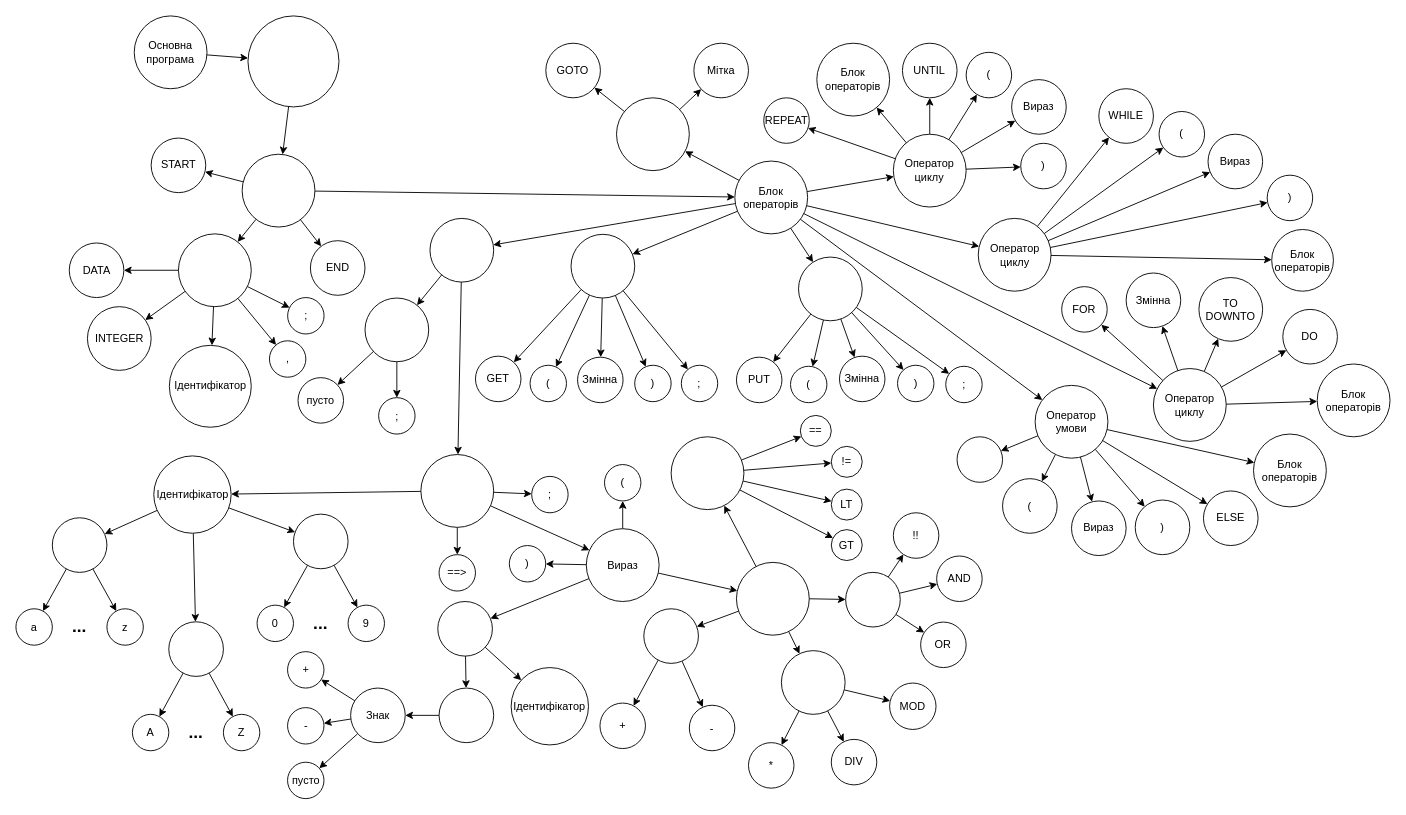
This 1406x815 diagram has some shape labels left out. Here are the shapes that lost their labels. From the top down, the centre of each, then its label:
point (293, 61): MAIMPROGRAM
point (652, 134): Оператор переходу
point (278, 190): Блок коду
point (461, 249): Простий оператор
point (602, 265): Оператор вводу
point (214, 270): Блок змінних
point (830, 288): Оператор виводу
point (396, 329): Порожній оператор
point (707, 473): Операції порівняння
point (979, 459): IF
point (457, 490): Присвоєння
point (79, 544): Мала буква
point (320, 541): Цифра
point (772, 598): Операції
point (872, 599): Логічна операція
point (195, 648): Велика буква
point (464, 628): Операнд
point (670, 635): Адитивна операція
point (813, 682): Мультиплі кативна операція
point (466, 715): Константа
